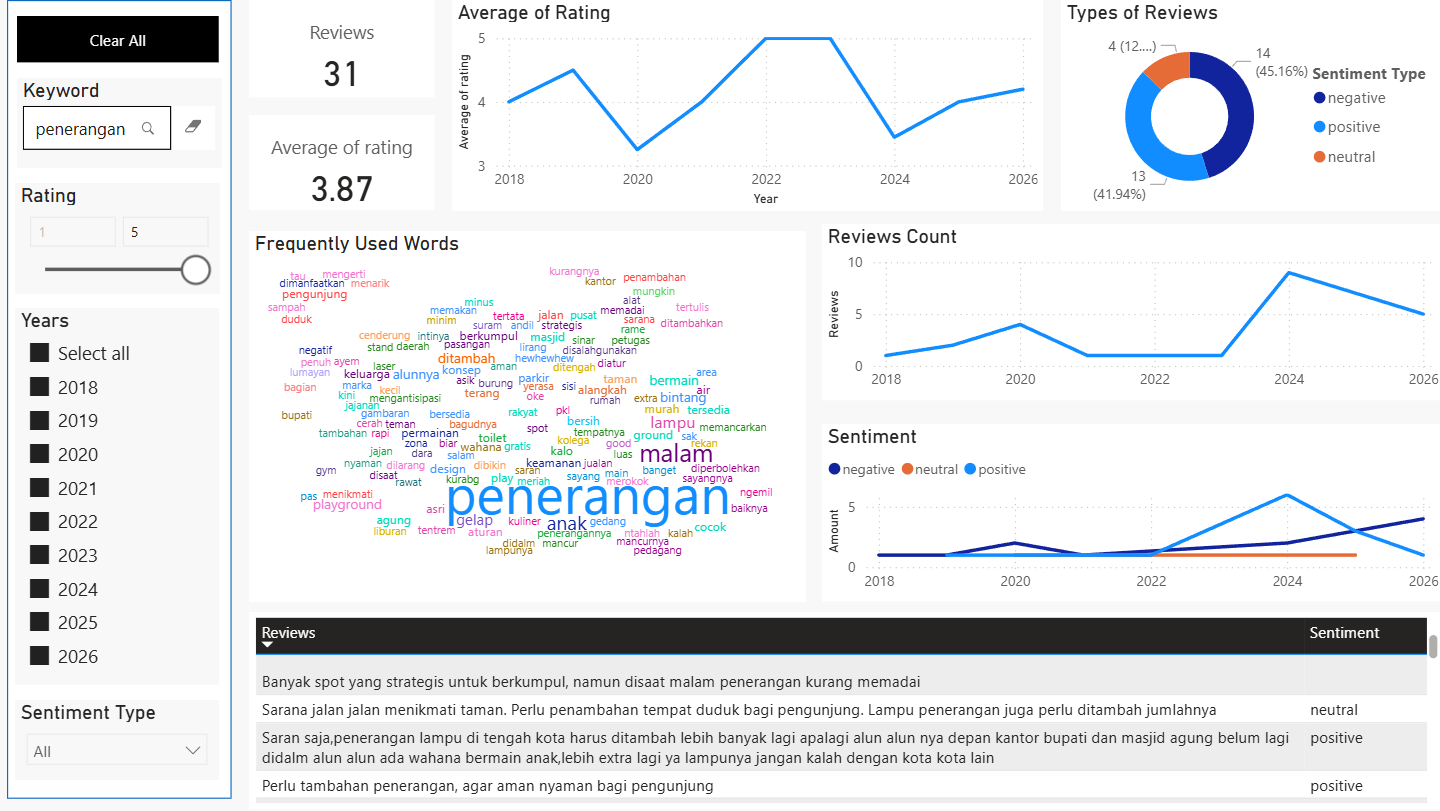

The dashboard page shown, as its layout file describes it:
{"tool":"powerbi","page":{"name":"Page 1","canvas":[1280,720],"ordinal":0},"visuals":[{"type":"cardVisual","fields":{"Data":["Avg(Sheet1.rating)"]},"box":[229.7,114.3,160,81.6],"z":0},{"type":"shape","box":[20.7,15.2,193.7,689],"z":1000},{"type":"lineChart","title":"Average of Rating","fields":{"Y":["Avg(Sheet1.rating)"],"Category":["Sheet1.date_parsed.Variation.Date Hierarchy.Year"]},"box":[404.9,15.2,510.5,181.8],"z":2000},{"type":"donutChart","title":"Types of Reviews","fields":{"Category":["Sheet1.sentiment_type"],"Y":["CountNonNull(Sheet1.sentiment_type)"]},"box":[929.5,15.2,330.9,181.8],"z":3000},{"type":"lineChart","title":"Sentiment","fields":{"Category":["Sheet1.date_parsed.Variation.Date Hierarchy.Year"],"Y":["CountNonNull(Sheet1.sentiment_type)"],"Series":["Sheet1.sentiment_type"]},"box":[723.8,381,536.6,153.5],"z":4000},{"type":"lineChart","title":"Reviews Count","fields":{"Category":["Sheet1.date_parsed.Variation.Date Hierarchy.Year"],"Y":["CountNonNull(Sheet1.review_id)"]},"box":[723.8,209,536.6,152.4],"z":5000},{"type":"tableEx","fields":{"Values":["Sheet1.review_text","Sheet1.sentiment_type"]},"box":[229.7,543.1,1030.7,169.8],"z":6000},{"type":"textFilter25A4896A83E0487089E2B90C9AE57C8A","fields":{"field":["Sheet1.review_text"]},"box":[29.4,82.7,176.3,77.3],"z":7000},{"type":"WordCloud1447959067750","title":"Frequently Used Words","fields":{"Values":["CountNonNull(Sheet1.word_cloud)"],"Category":["Sheet1.word_cloud"]},"box":[229.7,214.4,480,320],"z":8000},{"type":"slicer","title":"Rating","fields":{"Values":["Sheet1.rating"]},"box":[27.2,173.1,176.3,94.7],"z":9000},{"type":"cardVisual","fields":{"Data":["CountNonNull(Sheet1.review_id)"]},"box":[229.7,15.2,160,83.8],"z":10000},{"type":"slicer","title":"Years","fields":{"Values":["Sheet1.year"]},"box":[27.2,280.8,176.3,325.4],"z":11000},{"type":"slicer","title":"Sentiment Type","fields":{"Values":["Sheet1.sentiment_type"]},"box":[27.2,619.3,176.3,68.6],"z":12000},{"type":"actionButton","box":[29.4,29.4,174.1,40.3],"z":13000}]}

Visuals, with their boxes on the page's 1280x720 design canvas (x1, y1, x2, y2). These are canvas units, not pixel positions in the 1440x811 screenshot, which may show the page scaled, cropped or inside an application window:
cardVisual - Avg(Sheet1.rating): (x1=230, y1=114, x2=390, y2=196)
shape: (x1=21, y1=15, x2=214, y2=704)
"Average of Rating" lineChart: (x1=405, y1=15, x2=915, y2=197)
"Types of Reviews" donutChart: (x1=930, y1=15, x2=1260, y2=197)
"Sentiment" lineChart: (x1=724, y1=381, x2=1260, y2=534)
"Reviews Count" lineChart: (x1=724, y1=209, x2=1260, y2=361)
tableEx - Sheet1.review_text x Sheet1.sentiment_type: (x1=230, y1=543, x2=1260, y2=713)
textFilter25A4896A83E0487089E2B90C9AE57C8A - Sheet1.review_text: (x1=29, y1=83, x2=206, y2=160)
"Frequently Used Words" WordCloud1447959067750: (x1=230, y1=214, x2=710, y2=534)
"Rating" slicer: (x1=27, y1=173, x2=204, y2=268)
cardVisual - CountNonNull(Sheet1.review_id): (x1=230, y1=15, x2=390, y2=99)
"Years" slicer: (x1=27, y1=281, x2=204, y2=606)
"Sentiment Type" slicer: (x1=27, y1=619, x2=204, y2=688)
actionButton: (x1=29, y1=29, x2=204, y2=70)
